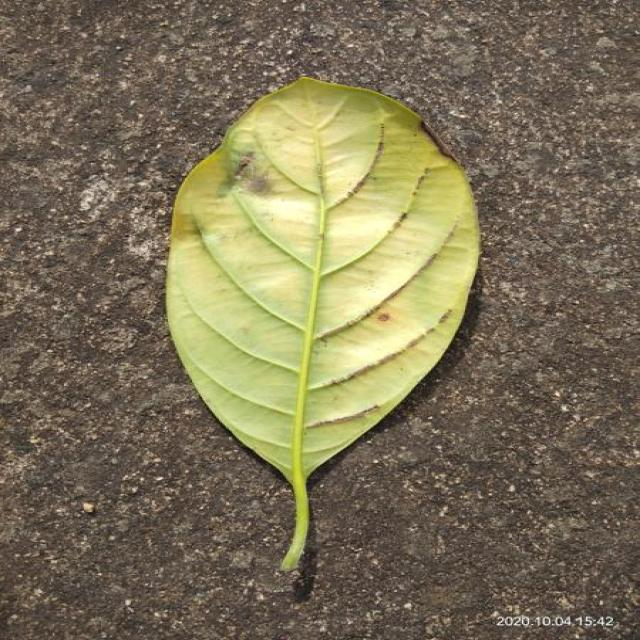Jackfruit: (167, 78, 478, 569)
leaf spot: (192, 111, 465, 368)
